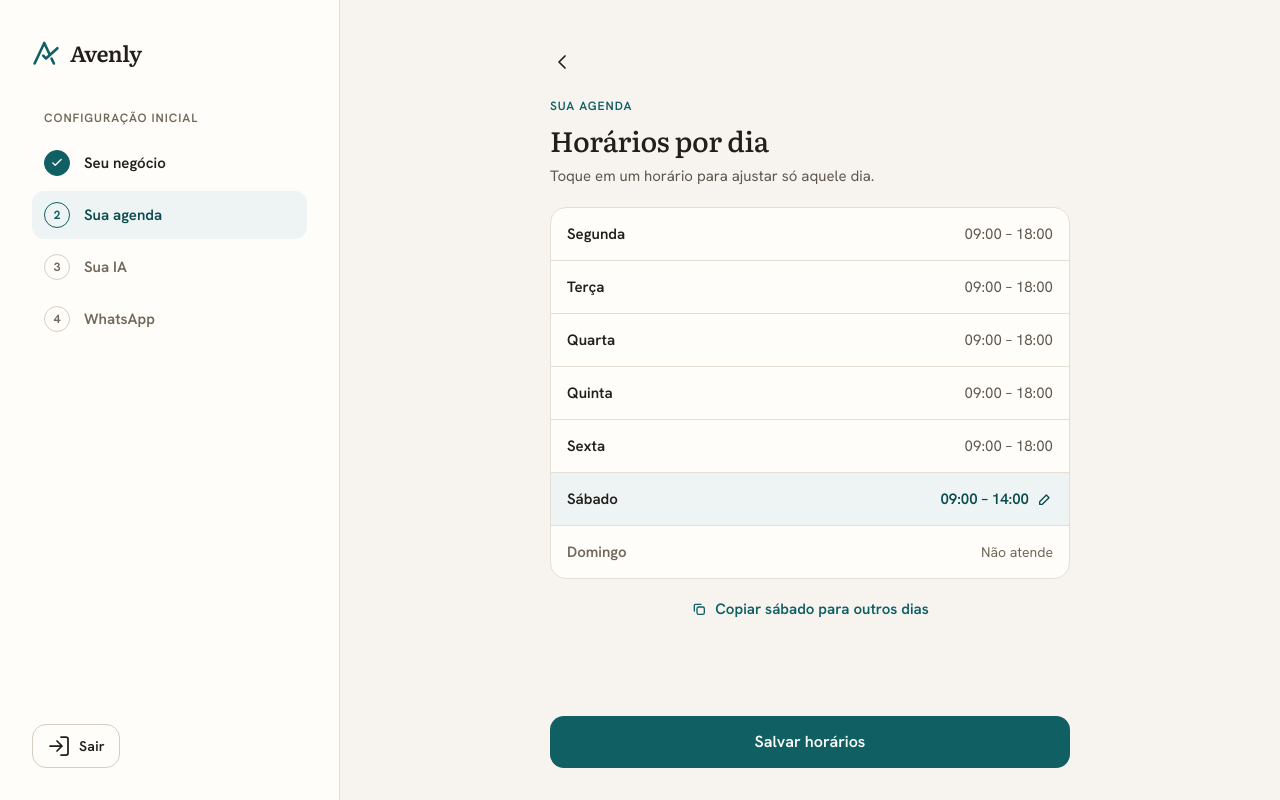
Copiar para outros dias › copiar iguala os dias marcados, esvazia as diferenças e o link some, sem gravar
The image size is (1280, 800).
Expected: the heading "Horários por dia" is shown, [550,119,769,161]
Step 1. Click the button "Copiar sábado para outros dias" → (810, 609), box [683,595,937,623]
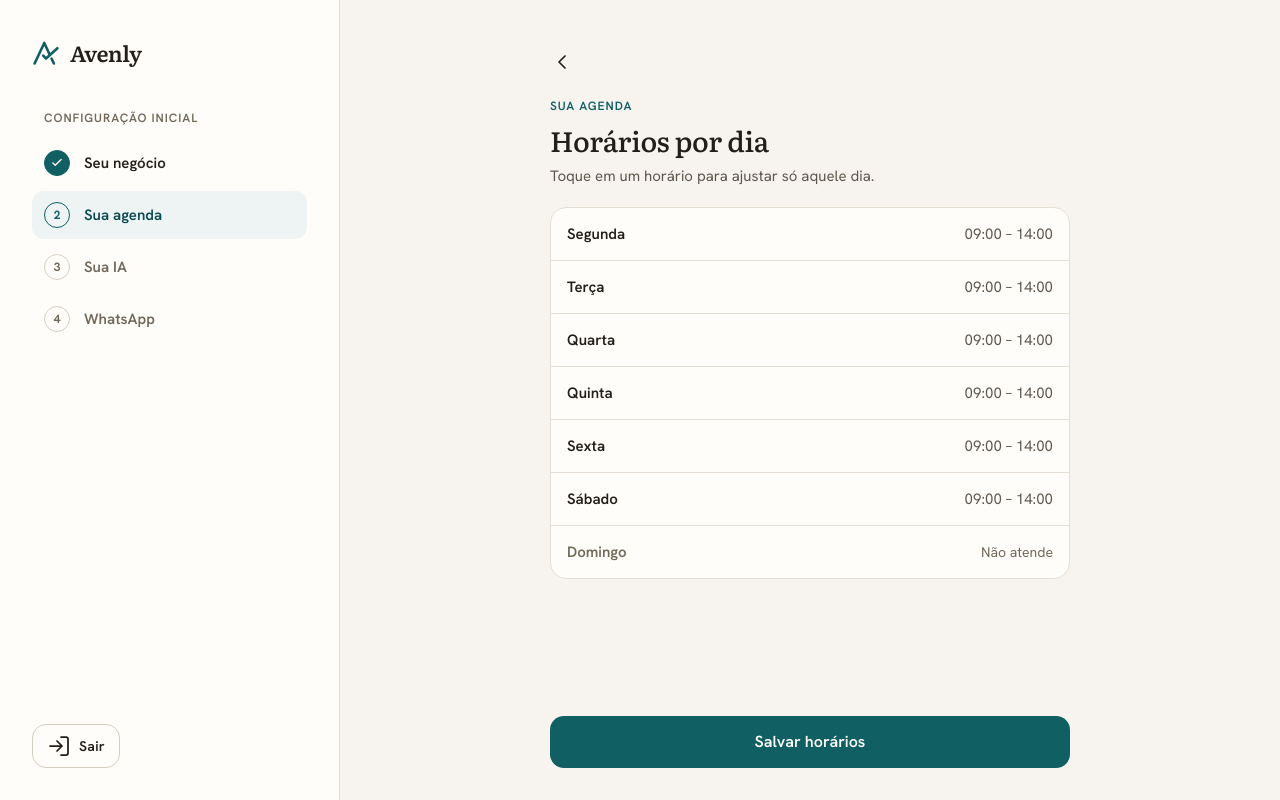
Expected: the text "Não atende" is shown, [981,543,1053,561]
Result: the button "Copiar " is gone
O intervalo-base virou o do dia copiado e nenhum dia ficou personalizado.
Step 2. Click the button named "Voltar" → (562, 62), box [542,42,582,82]
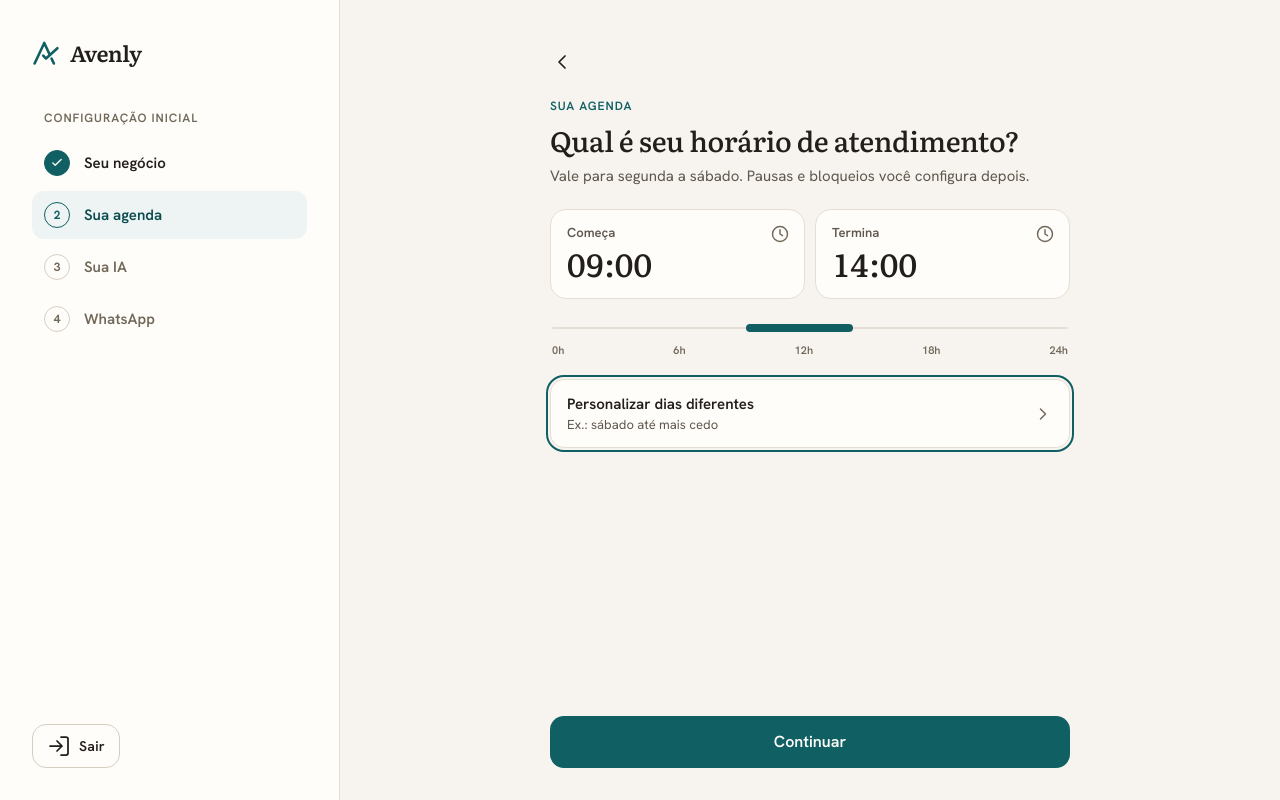
Result: the field labelled "Começa" holds "09:00" at [567,247,788,279]
Result: the field labelled "Termina" holds "14:00" at [832,247,1053,279]
